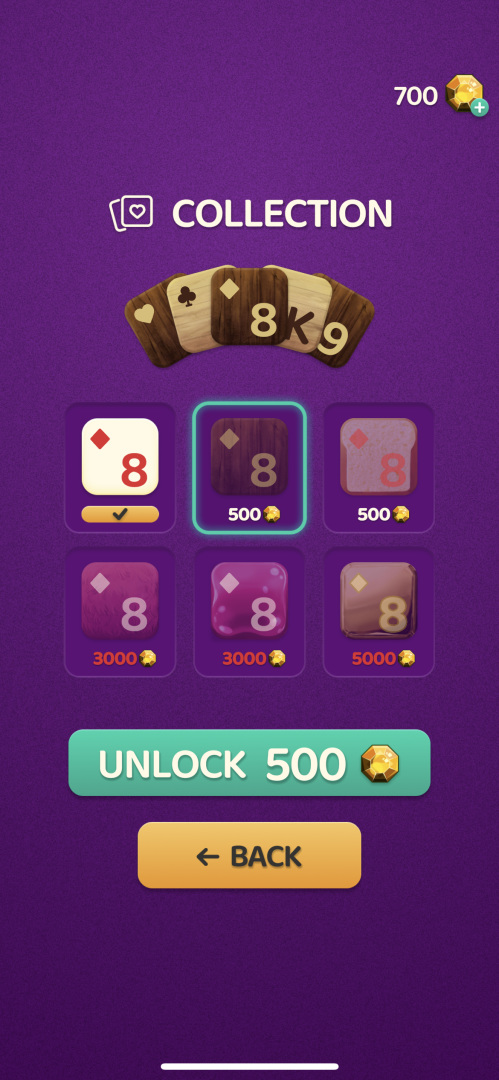badge: (83, 417, 159, 496), (340, 560, 416, 639), (81, 562, 158, 639), (341, 417, 416, 495), (212, 562, 287, 636)
button: (71, 726, 425, 798), (139, 818, 359, 895), (192, 399, 308, 539), (63, 400, 176, 538), (62, 546, 177, 681), (323, 399, 436, 536), (192, 546, 304, 679), (324, 546, 434, 679)
card: (83, 419, 158, 496)
text: (115, 192, 389, 234), (100, 742, 350, 786), (98, 744, 246, 785), (357, 504, 409, 524), (352, 649, 396, 669), (222, 649, 267, 668), (93, 649, 137, 668), (358, 503, 392, 523), (228, 504, 263, 523)
unknown: (127, 264, 372, 370), (168, 195, 387, 232), (212, 416, 288, 497), (82, 561, 159, 639), (211, 562, 287, 637), (343, 417, 416, 494), (195, 841, 308, 872), (267, 744, 344, 784), (230, 842, 303, 872), (362, 744, 399, 783), (355, 648, 416, 670), (224, 649, 287, 669), (96, 648, 155, 669), (394, 81, 438, 109), (227, 504, 281, 524), (267, 648, 287, 669), (397, 648, 417, 668), (138, 648, 157, 669)
